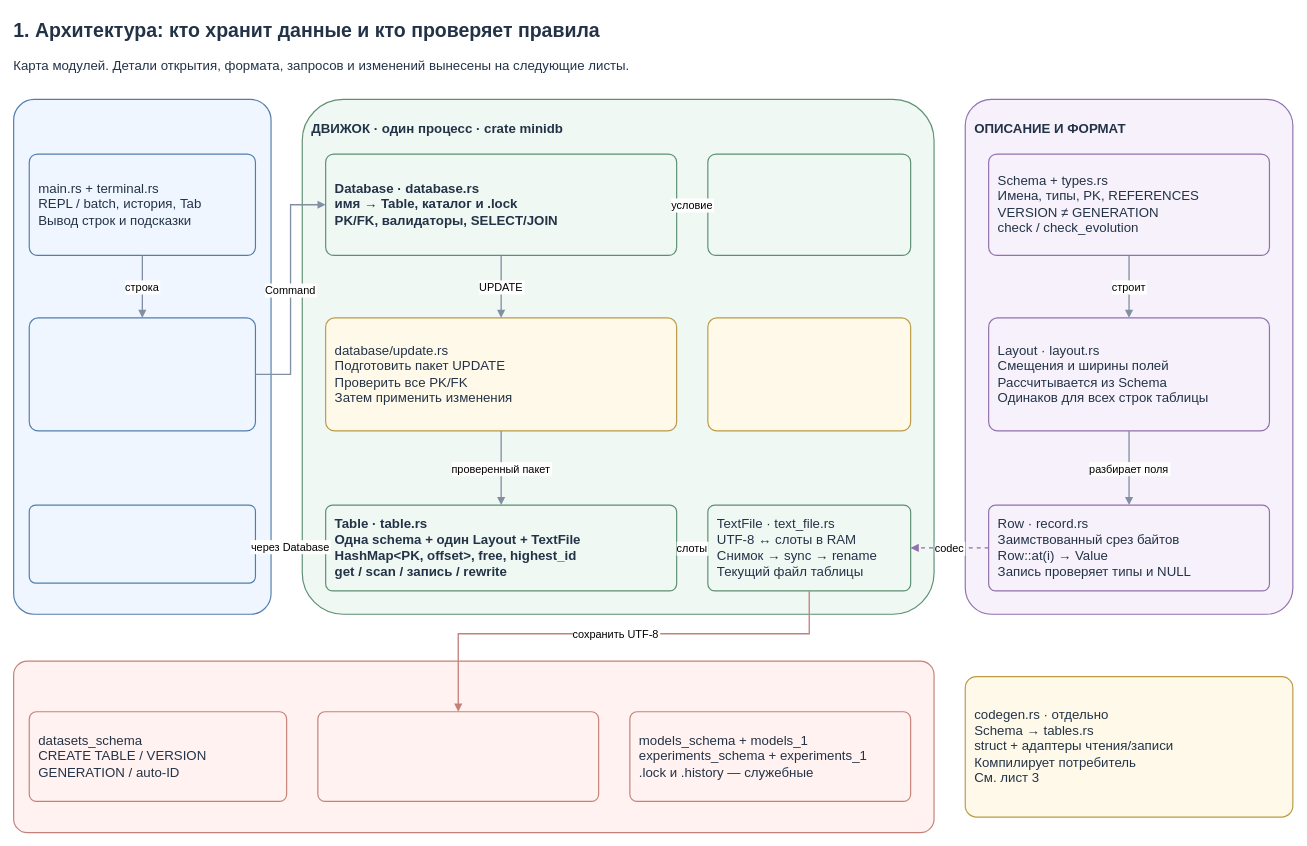
The diagram is 1307 pixels wide and 846 high, and some of its shapes have lost their labels. The shapes that lost their labels are listed below. From the top down, each one's box as (x1, y1, x2, y2) in pixels, then its label:
(707, 153, 911, 256): query.rs Expr → Filter имена → номера Индекс или scan
(13, 99, 271, 614): ВВОД И ОТОБРАЖЕНИЕ
(28, 317, 256, 431): sql.rs Токены → Command / Expr Регистр слов свободный, строки остаются исходными
(707, 317, 911, 431): database/backup.rs Копия текущих файлов Проверка перед restore .lock освобождён
(28, 504, 256, 583): Библиотечный потребитель Те же методы Database; SQL-парсер необязателен
(317, 711, 599, 802): datasets_1 UTF-8: LIVE / DEAD / FREE Одно текущее поколение
(13, 660, 934, 833): ДИСК · каталог sample/
